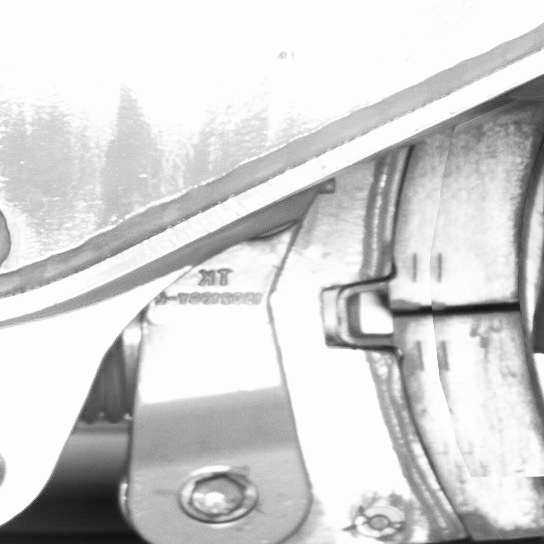ClosedKnifeSwitch: (360, 145, 543, 543)
